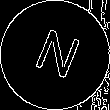N_S: (27, 24, 83, 86)
